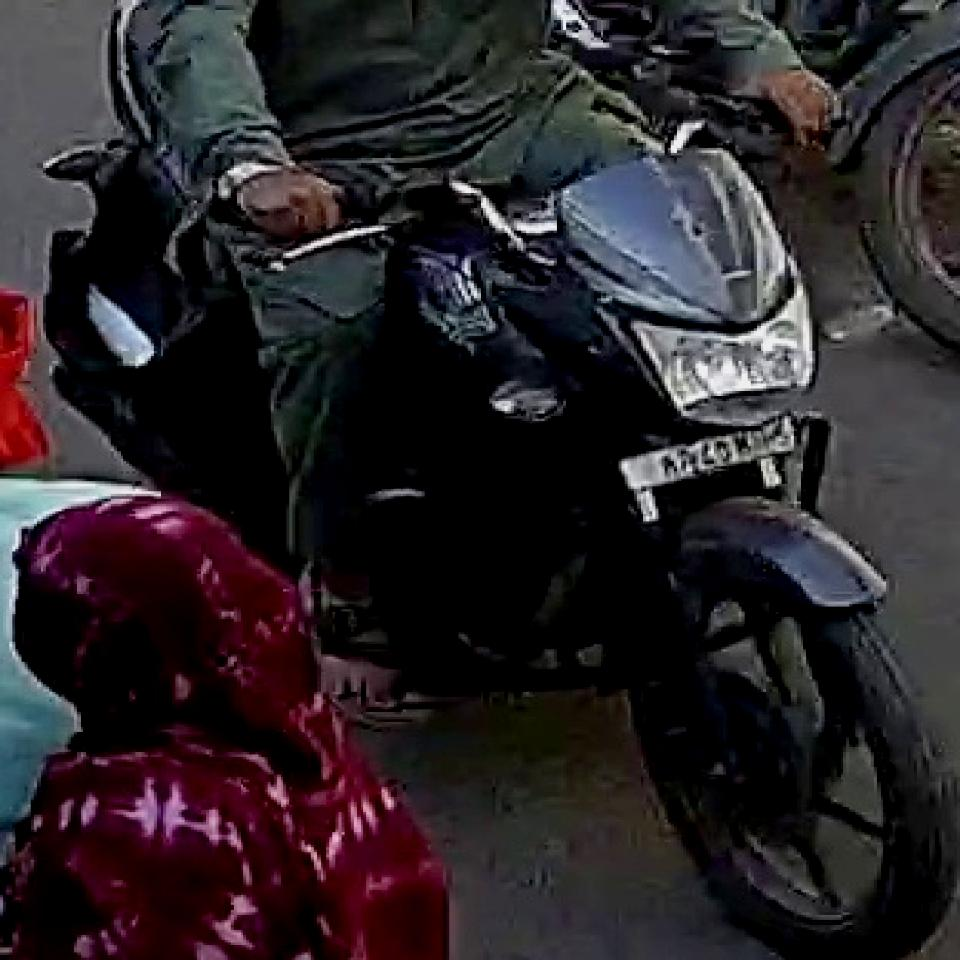head_light: (628, 276, 818, 424)
